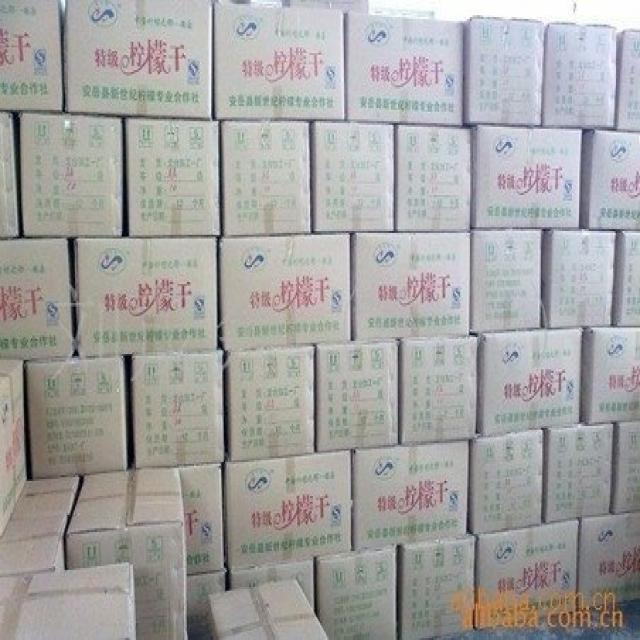box: (62, 470, 187, 638), (64, 2, 214, 121), (75, 237, 218, 358), (217, 229, 354, 352), (219, 453, 354, 568), (214, 4, 345, 121), (350, 437, 473, 555), (25, 356, 136, 481), (20, 110, 126, 239), (354, 233, 474, 345), (345, 13, 463, 125), (477, 326, 590, 437), (474, 515, 581, 627), (126, 117, 224, 239), (132, 356, 232, 470), (473, 125, 581, 229), (221, 121, 313, 239), (0, 562, 136, 640), (225, 347, 320, 456), (463, 17, 551, 127), (317, 341, 402, 454), (0, 239, 79, 360), (313, 121, 395, 233), (464, 428, 547, 536), (401, 337, 479, 447), (395, 125, 473, 233), (1, 475, 82, 579), (395, 536, 476, 638), (542, 23, 619, 129), (316, 545, 396, 640), (542, 227, 617, 326), (207, 581, 331, 640), (0, 0, 65, 112), (473, 231, 544, 333), (542, 426, 616, 523), (578, 125, 639, 229), (225, 555, 317, 623), (576, 511, 639, 608), (582, 326, 639, 424), (178, 466, 225, 576), (3, 360, 30, 545), (0, 112, 24, 237), (183, 572, 228, 638), (609, 424, 640, 513), (616, 30, 640, 133), (615, 229, 637, 326)
